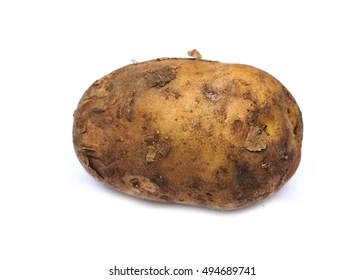potato rotten: (61, 40, 317, 218)
